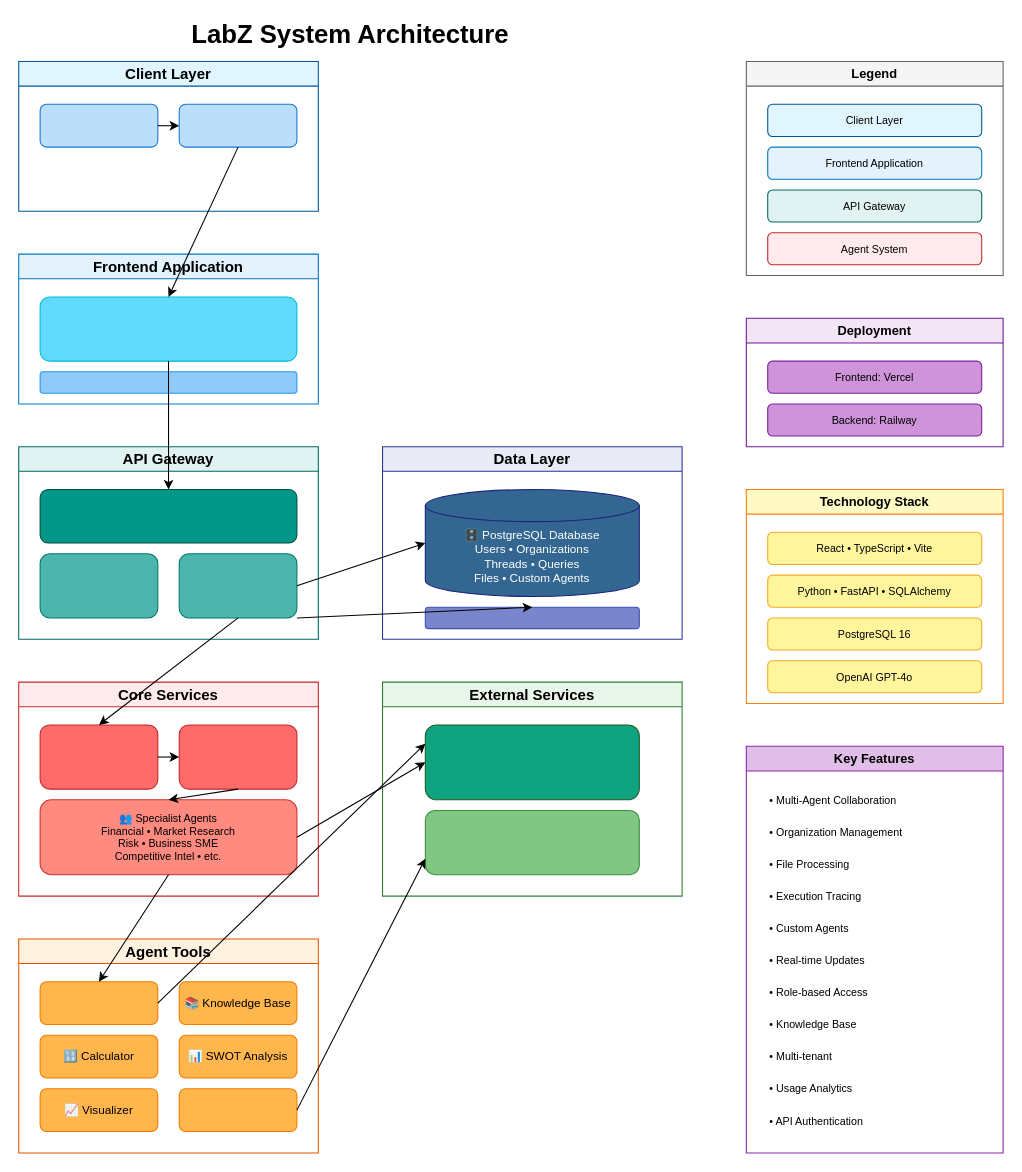
The diagram is 1022 pixels wide and 1172 high, and some of its shapes have lost their labels. The centre of each missing label's shape, as x and y in pixels:
⚛️ React + TypeScript Vite + Chakra UI: the point at 168,328
🌐 Web Browser: the point at 237,125
👔 Strategic Director: the point at 237,756
👤 Users: the point at 98,125
📁 File Storage Documents • Uploads: the point at 531,617
📄 Document Search: the point at 98,1003
📡 REST API Endpoints: the point at 237,585
📱 User Interface Chat • Organizations • Files: the point at 168,382
🔍 Web Search: the point at 237,1110
🔍 Web Search APIs News • Real-time Info: the point at 531,842
🔐 Authentication API Key • Session: the point at 98,585
🚀 FastAPI Backend Python + SQLAlchemy: the point at 168,515
🤖 Agent Crew Orchestrator: the point at 98,756
🧠 OpenAI API GPT-4o Function Calling: the point at 531,762
